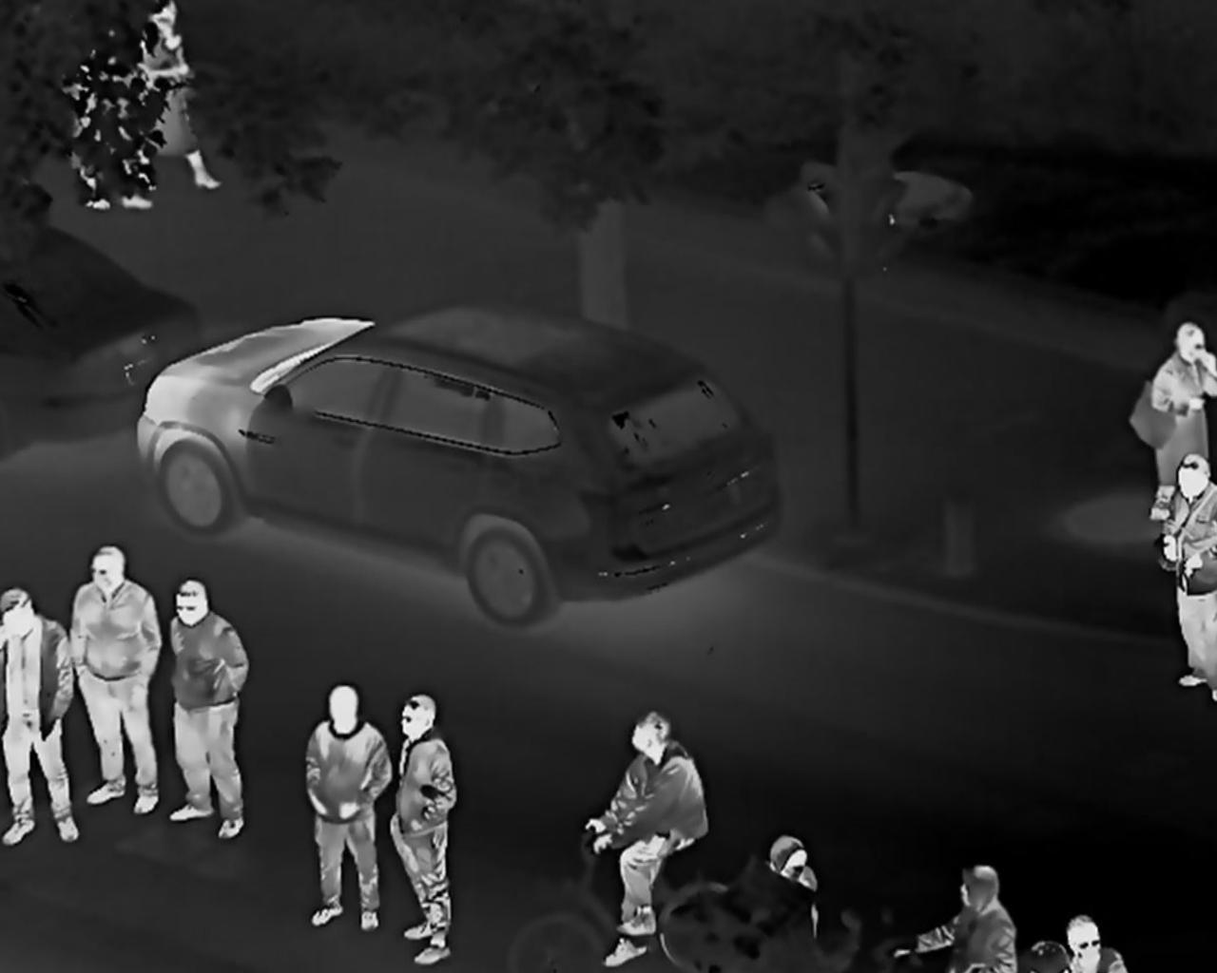person: (71, 536, 169, 797), (595, 704, 696, 949), (388, 668, 462, 973), (298, 666, 381, 931), (181, 566, 244, 835), (1128, 285, 1217, 460), (1163, 448, 1217, 685), (925, 852, 1018, 973), (1031, 889, 1110, 973), (760, 813, 817, 922)
